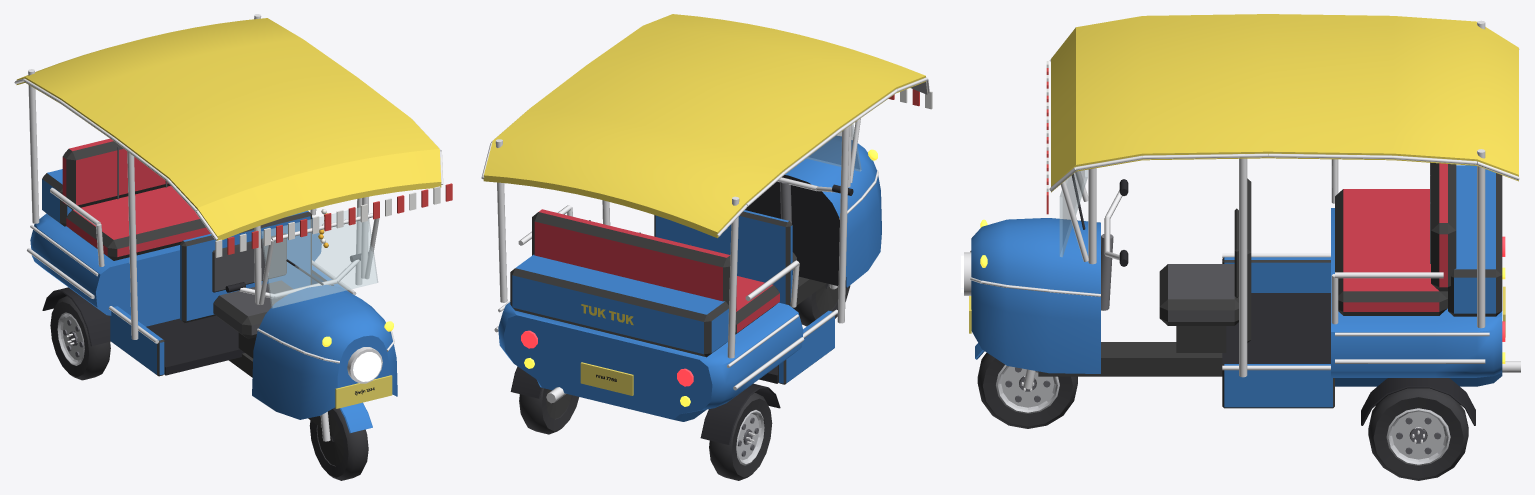
Rendered from SM_TukTuk.fbx.
The picture shows the model from 3 angles, left to right: view 1: azimuth 30°, elevation 25°; view 2: azimuth 150°, elevation 25°; view 3: azimuth 270°, elevation 25°; orthographic projection. The views are drawn at different scales.
Parts seen in each view (by area): view 1: Body, Wheel_RR, Wheel_F; view 2: Body, Wheel_RR, Wheel_RL, Wheel_F; view 3: Body, Wheel_RL, Wheel_F.
Part boxes in pixels (box(x1,y1,x2,y2)): Body: box(14, 14, 452, 441); Wheel_RR: box(50, 296, 110, 380); Wheel_F: box(309, 407, 368, 480); Body: box(481, 14, 932, 444); Wheel_RR: box(709, 393, 772, 480); Wheel_RL: box(519, 388, 579, 434); Wheel_F: box(793, 283, 850, 326); Body: box(961, 14, 1520, 425); Wheel_RL: box(1368, 388, 1468, 480); Wheel_F: box(977, 352, 1077, 428).
Bounding box in the file's own units: 1.59 × 1.87 × 2.68.
